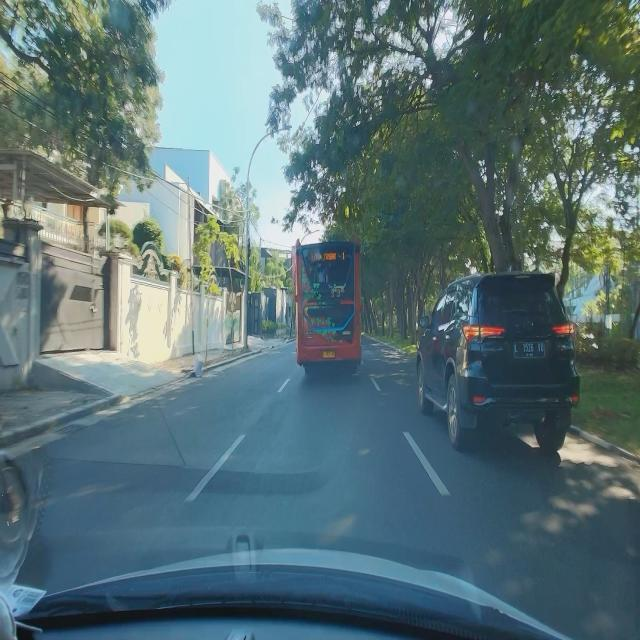bus: (294, 234, 364, 376)
car: (416, 268, 584, 454)
license-plate: (513, 341, 546, 358), (322, 350, 336, 359)
